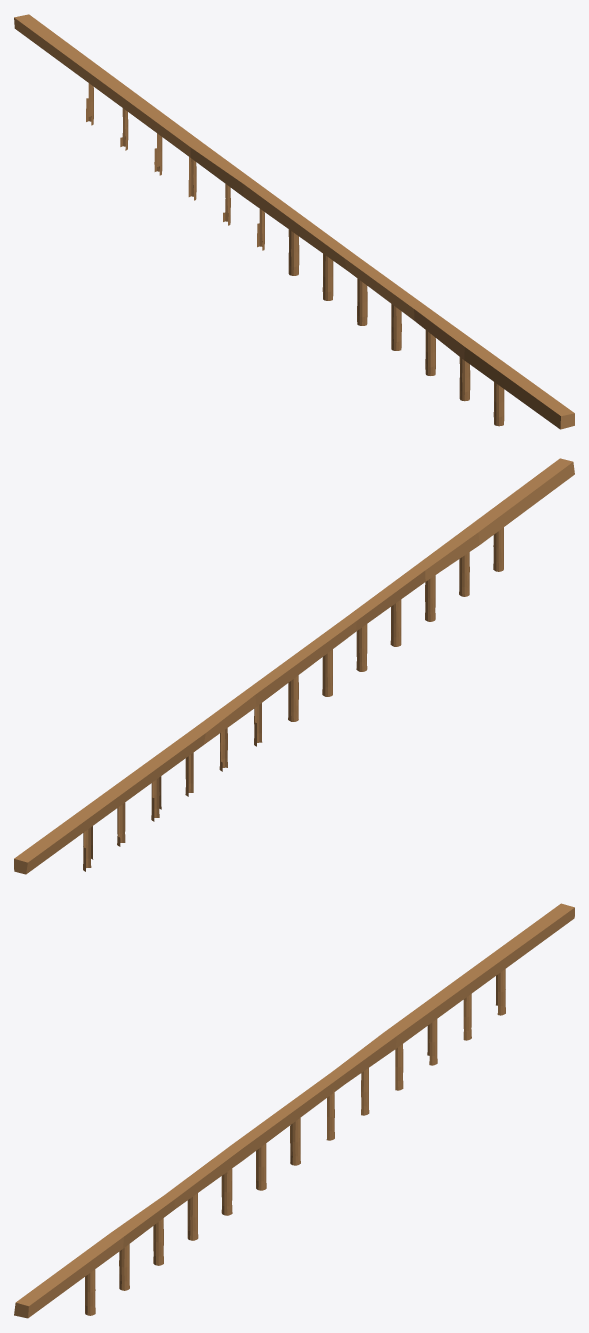
Rendered from Boat_Barrier_Closed.fbx.
The picture shows the model from 3 angles, top to bottom: view 1: azimuth 30°, elevation 25°; view 2: azimuth 150°, elevation 25°; view 3: azimuth 330°, elevation 25°; orthographic projection.
Parts seen in each view (by area): view 1: Boat_Barrier_Closed; view 2: Boat_Barrier_Closed; view 3: Boat_Barrier_Closed.
Boxes of the visible parts, x1,y1,x2,y2 form: Boat_Barrier_Closed: (14,14,574,429); Boat_Barrier_Closed: (14,458,574,874); Boat_Barrier_Closed: (14,903,574,1318).
Size of the model in its own units: 3202 by 52.19 by 193.
